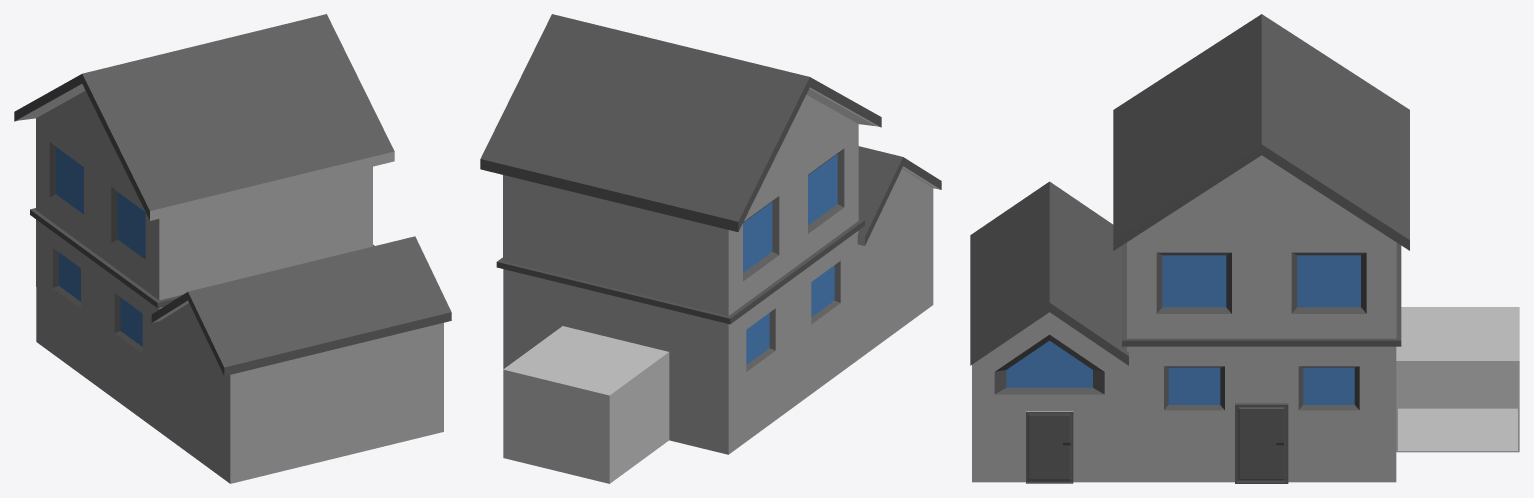
File: big_house.glb
3 views of the same model, side by side, from view 1: azimuth 30°, elevation 25°; view 2: azimuth 150°, elevation 25°; view 3: azimuth 270°, elevation 25° (orthographic). The views are drawn at different scales.
Parts seen in each view (by area): view 1: BIG HOUSE.001_Material.066_0; view 2: BIG HOUSE.001_Material.066_0; view 3: BIG HOUSE.001_Material.066_0.
Boxes of the visible parts, x1,y1,x2,y2 form: BIG HOUSE.001_Material.066_0: (14,14,451,483); BIG HOUSE.001_Material.066_0: (480,14,941,483); BIG HOUSE.001_Material.066_0: (970,14,1519,483).
Bounding box in the file's own units: 2.23 × 2.76 × 3.97.
Materials: 1 (1 with a texture image).
